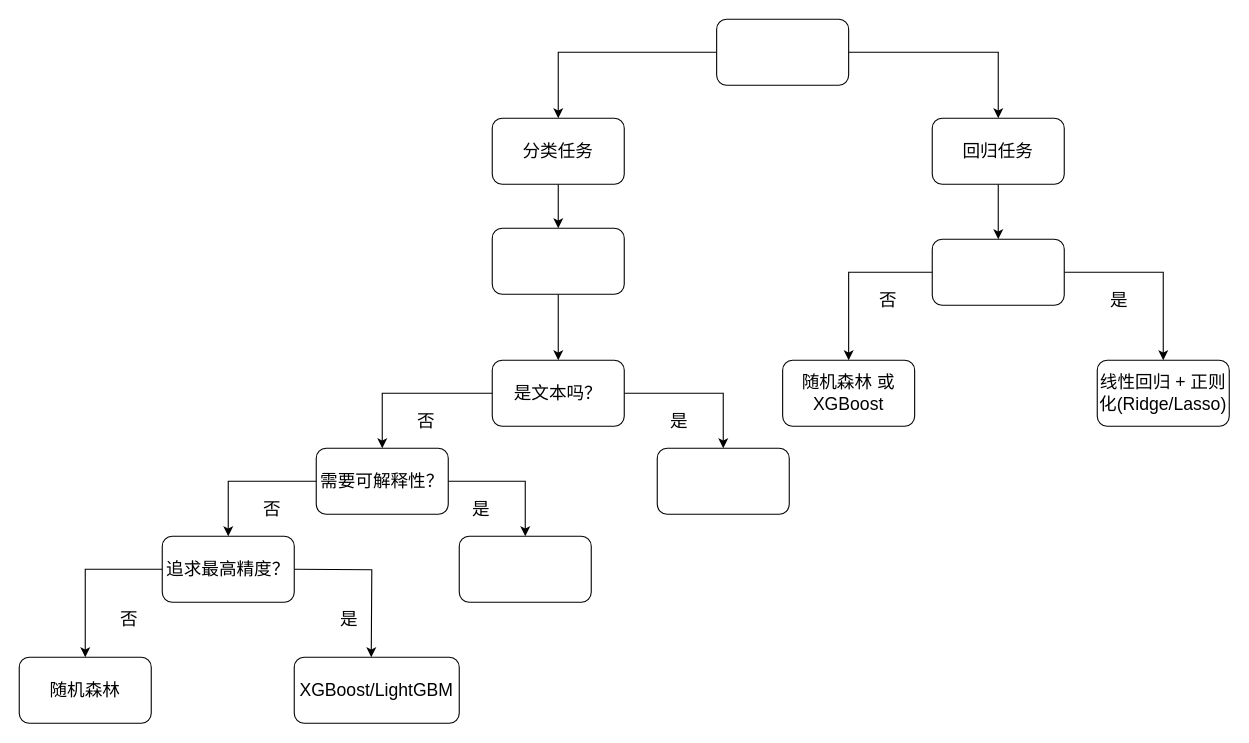
This 1249x743 diagram has some shape labels left out. Here are the shapes that lost their labels. From the top down, the centre of each, then its label:
At point 782,51: "你的任务是什么".
At point 557,260: "数据规模（小/中）<10万".
At point 997,271: "特征与目标线性相关？".
At point 722,480: "朴素贝叶斯 或 SVM(线性核)".
At point 524,568: "决策树".
